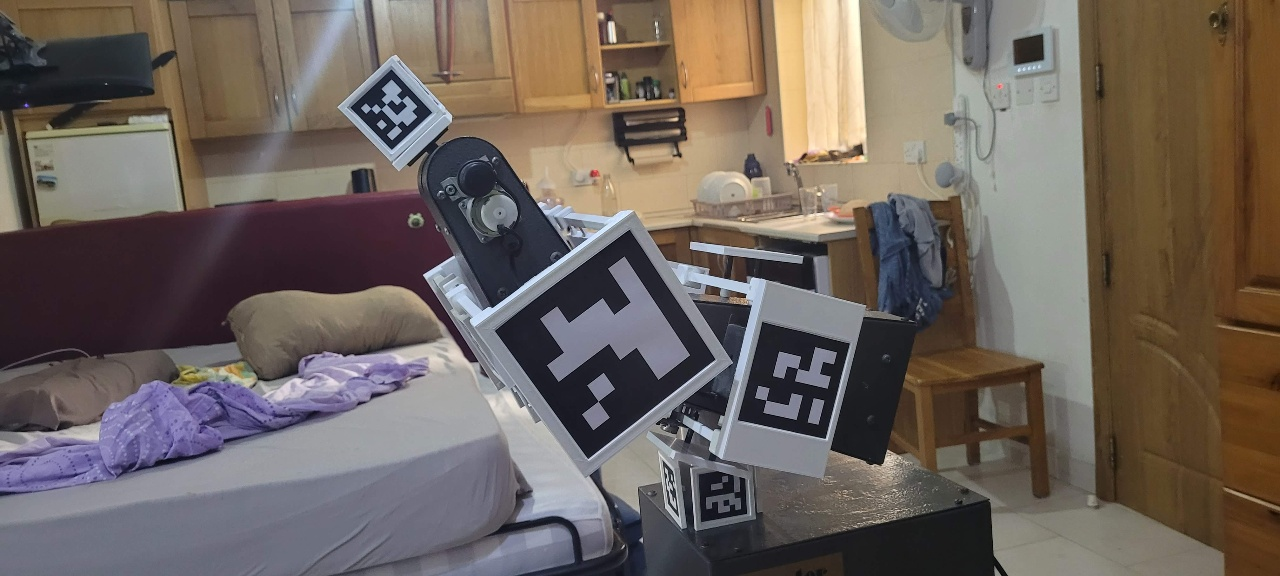Robot: (291, 1, 707, 576)
